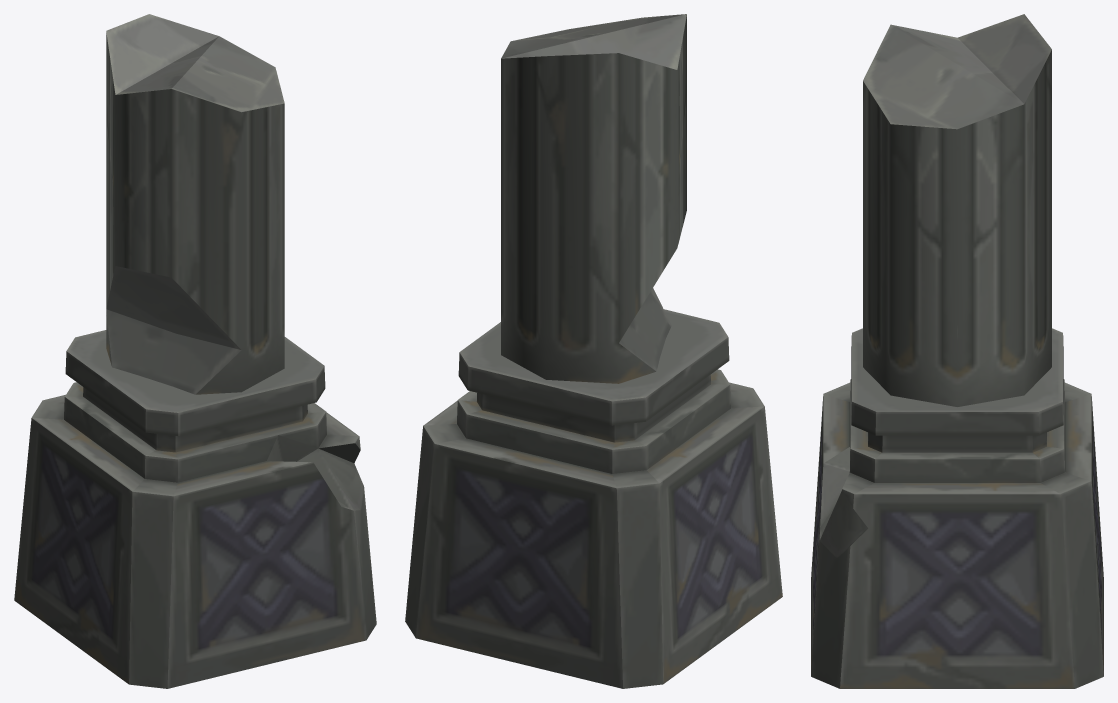
File: sc_dungeon_moshenta_zhuzi_002_b.FBX
3 renders of one model, left to right at view 1: azimuth 30°, elevation 25°; view 2: azimuth 150°, elevation 25°; view 3: azimuth 270°, elevation 25°, orthographic. The views are drawn at different scales.
Parts seen in each view (by area): view 1: sc_dungeon_moshenta_zhuzi_002_b; view 2: sc_dungeon_moshenta_zhuzi_002_b; view 3: sc_dungeon_moshenta_zhuzi_002_b.
Part boxes in pixels (x1,y1,x2,y2): sc_dungeon_moshenta_zhuzi_002_b: (14,14,376,688); sc_dungeon_moshenta_zhuzi_002_b: (405,14,782,688); sc_dungeon_moshenta_zhuzi_002_b: (811,14,1103,688).
Bounding box in the file's own units: 1.93 × 1.93 × 4.26.
1 material, 1 textured.
